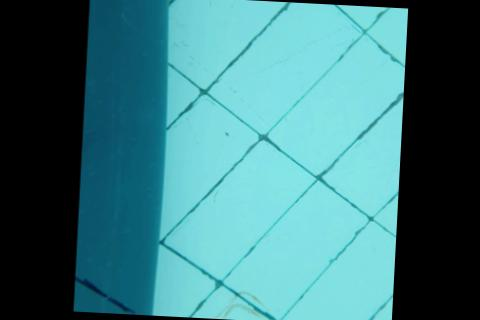keretakan: (71, 277, 138, 314)
